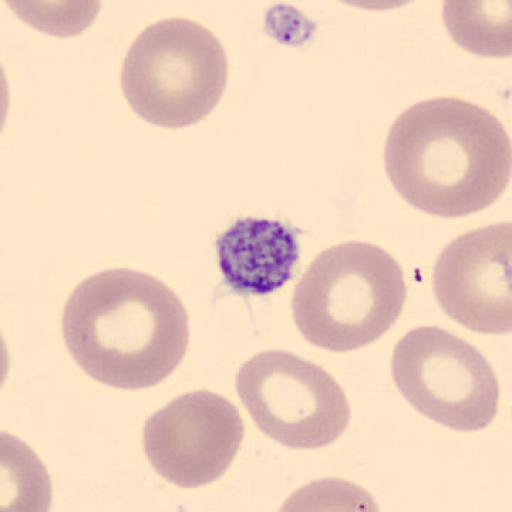Platelet: (211, 212, 304, 297), (260, 0, 322, 52)
RBC: (59, 264, 193, 396), (380, 93, 512, 222), (289, 238, 408, 354), (118, 14, 232, 131), (232, 347, 351, 451), (390, 323, 500, 434), (140, 388, 245, 491), (431, 220, 512, 336), (1, 430, 54, 512), (441, 0, 512, 61), (272, 475, 386, 512), (3, 0, 104, 39), (312, 0, 436, 14), (0, 48, 13, 148), (0, 316, 13, 401)
